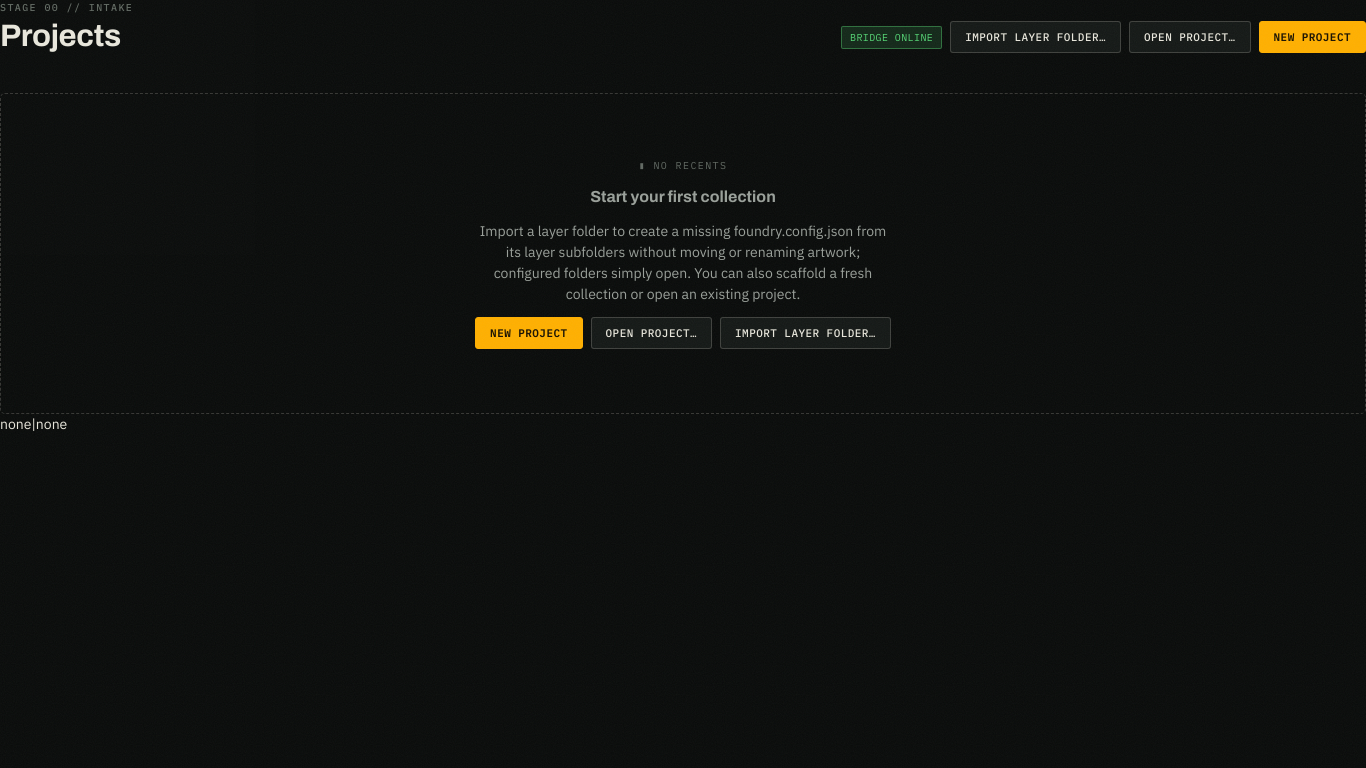
Test case: ProjectsScreen — new project › scaffolds a starter config + layer folders and opens the project
This screenshot has width=1366, height=768.
Click the button "New project" in the row of "BRIDGE ONLINE" at (1312, 37), box [1258, 21, 1365, 53]
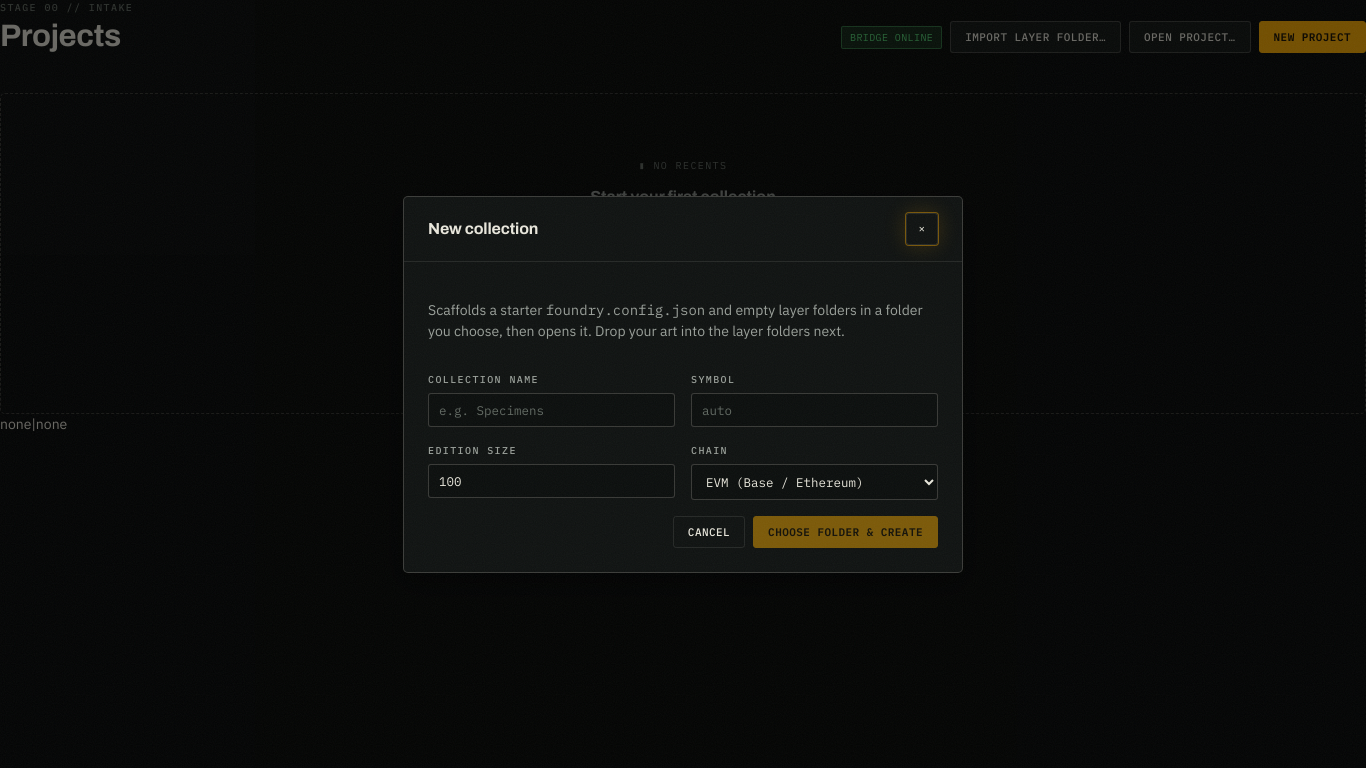
Type "Specimens" into the field labelled "Collection name" at (552, 410), box [428, 392, 675, 426]
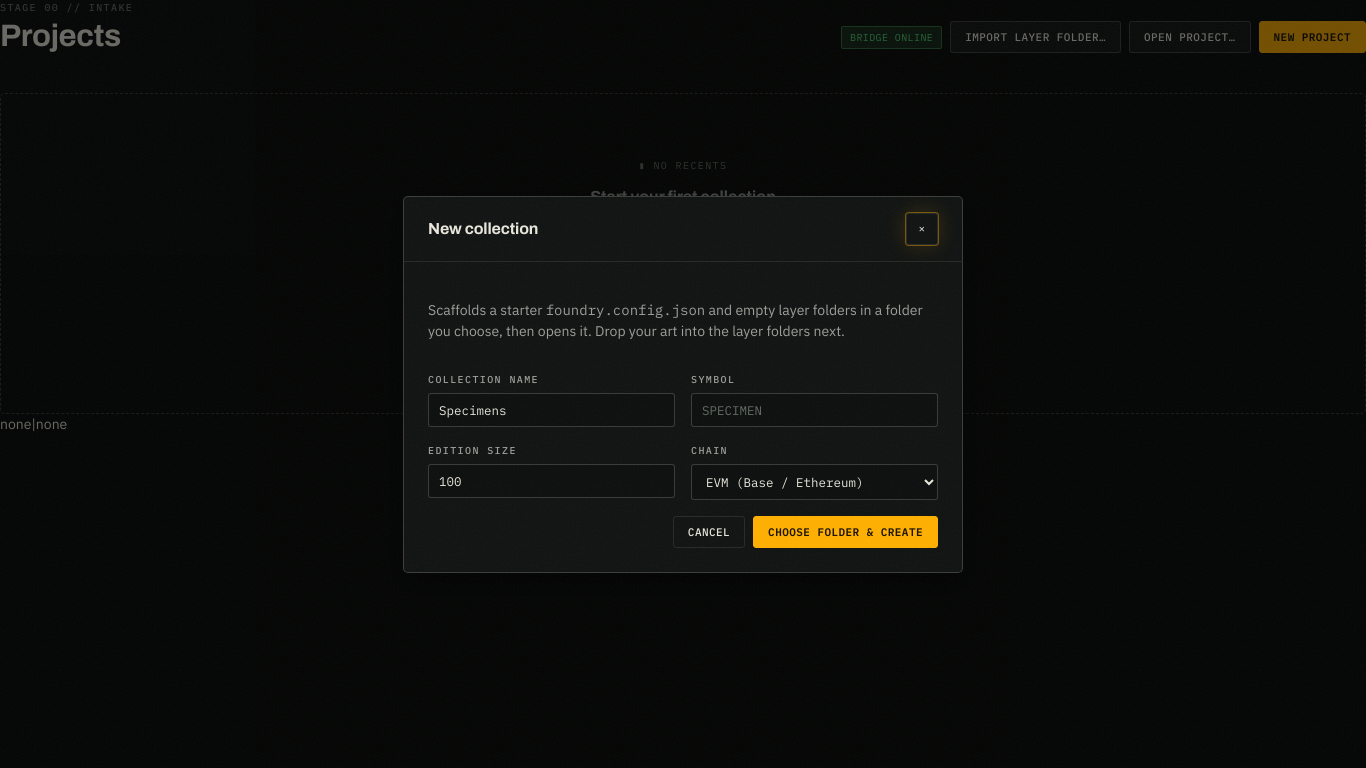
Click the button "Choose folder & create" at (846, 532), box [753, 516, 938, 548]
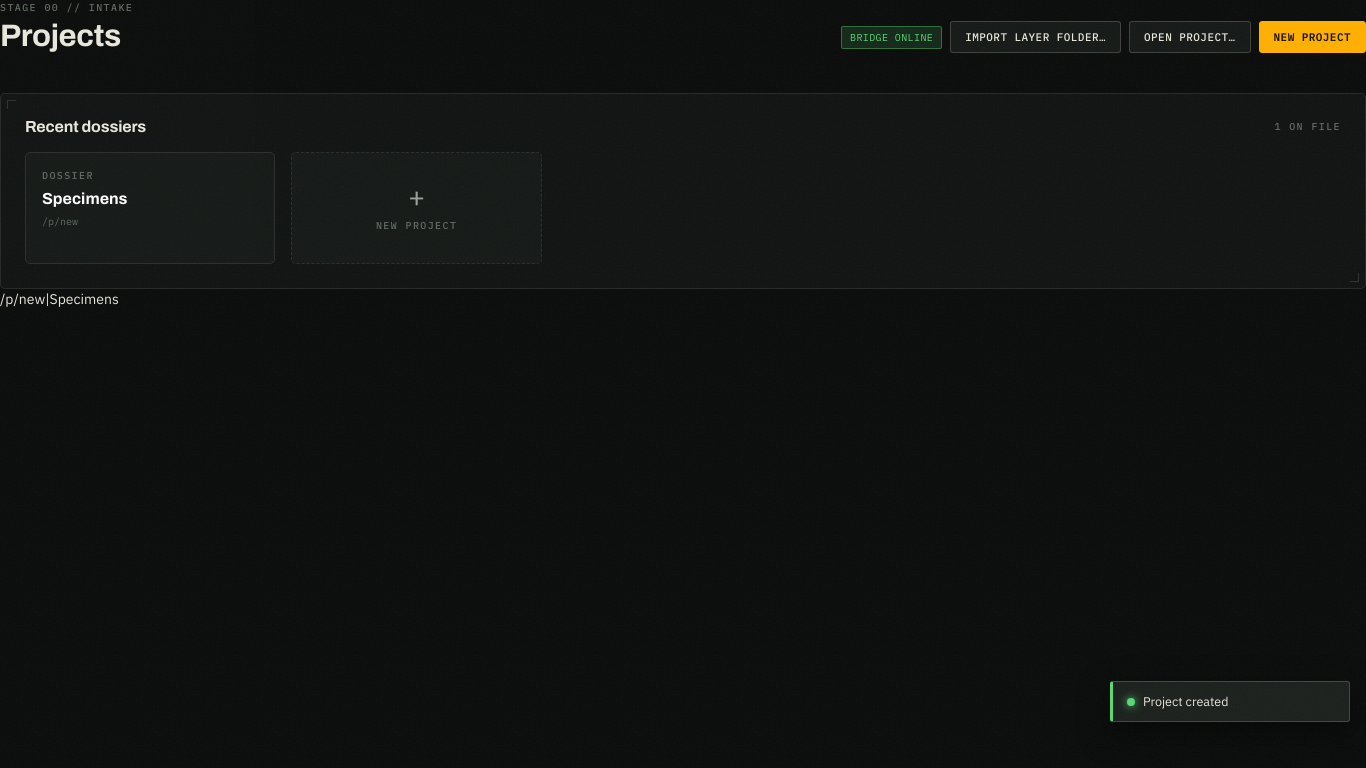
Check: the text "Specimens" is shown, box [42, 190, 128, 207]
